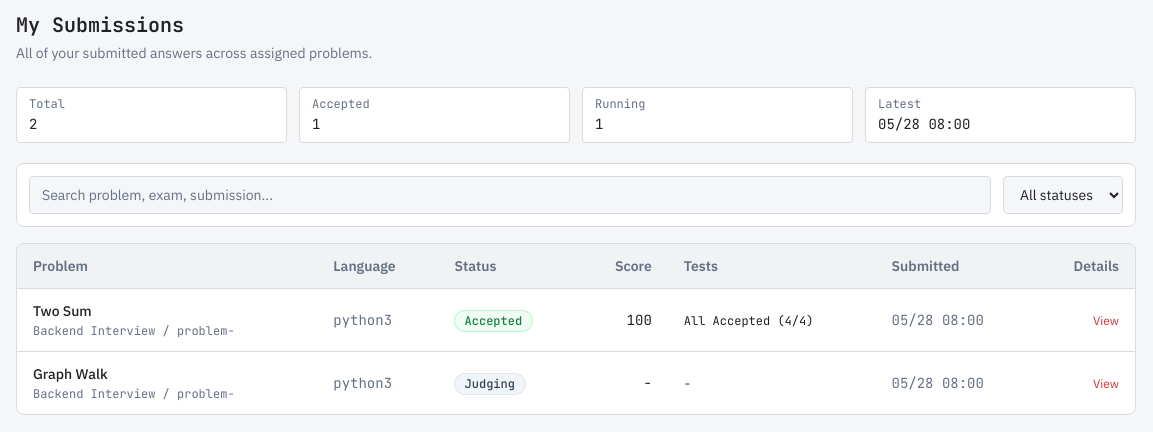
Test: SubmissionsPage › filters by verdict/status
This screenshot has width=1153, height=432.
Expected: the text "Two Sum" is shown, x1=33 y1=302 x2=92 y2=320
Select "judging" in the dropdown named "Verdict filter" at (1063, 195), box x1=1003 y1=176 x2=1123 y2=214
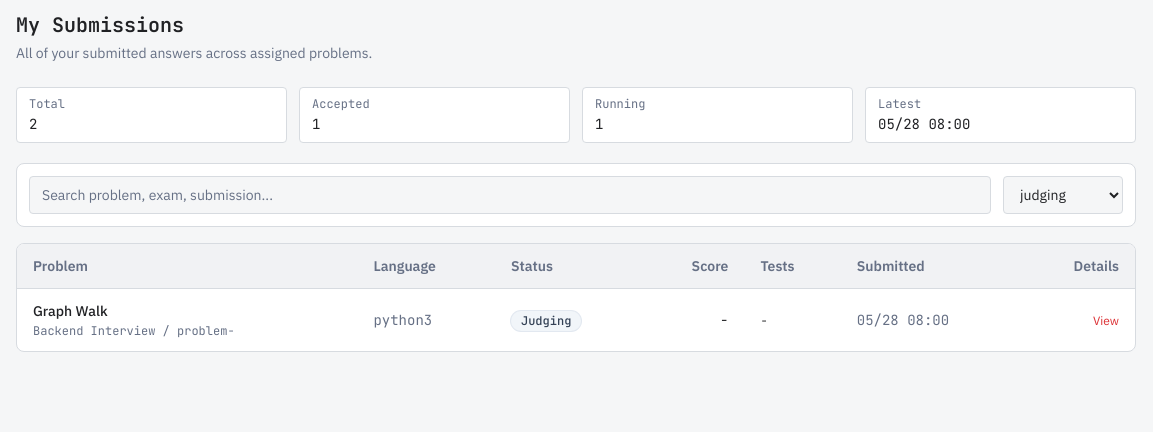
Expected: the text "Graph Walk" is shown, x1=33 y1=302 x2=108 y2=320
Expected: the text "Two Sum" is gone
